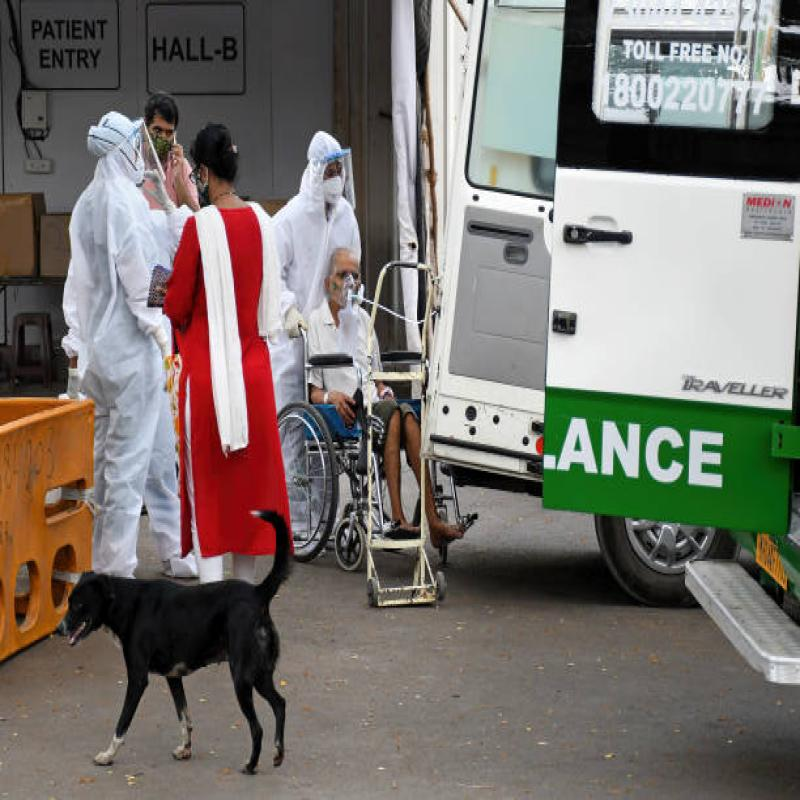ambulance: (448, 0, 800, 486)
